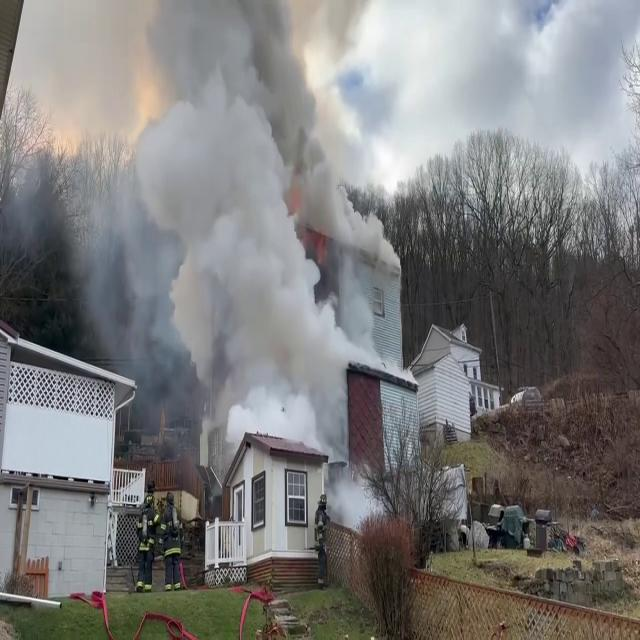Smoke: (48, 0, 378, 458)
